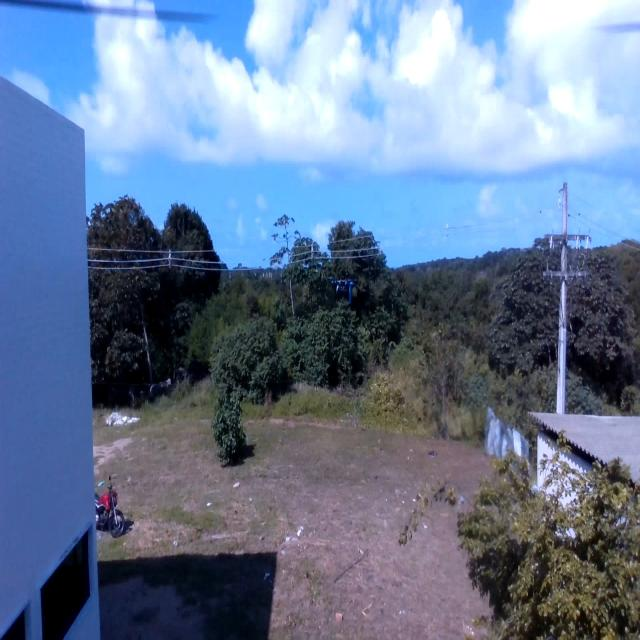-uav-: (330, 270, 355, 305)
